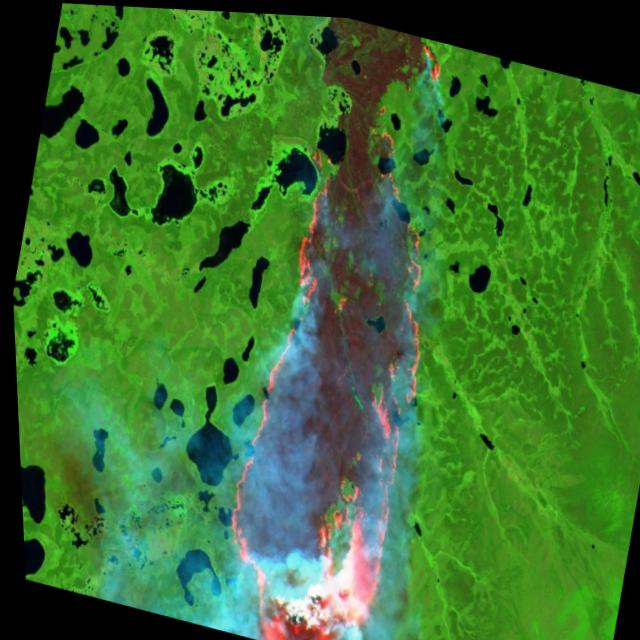fire: (183, 7, 499, 640)
